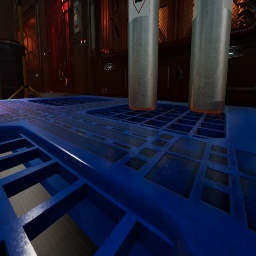0: (188, 0, 233, 114), (128, 0, 159, 110)
SafetySwitchPanel ,: (74, 0, 82, 34)
